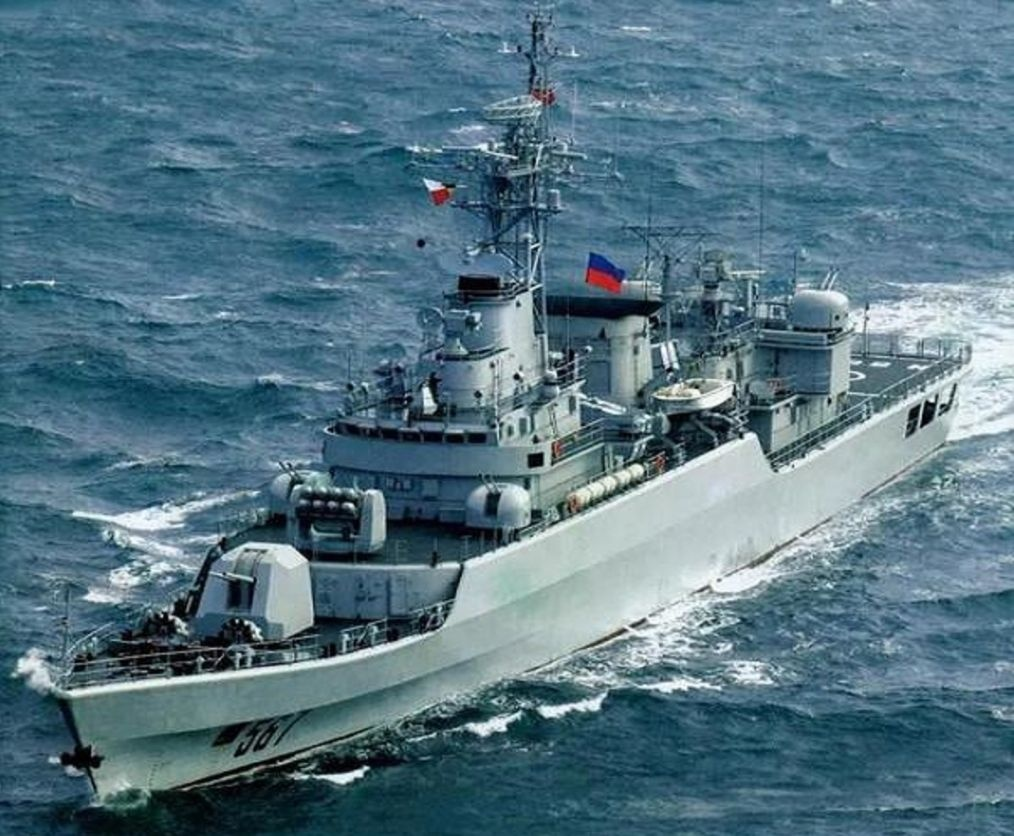warship: (30, 44, 975, 784)
